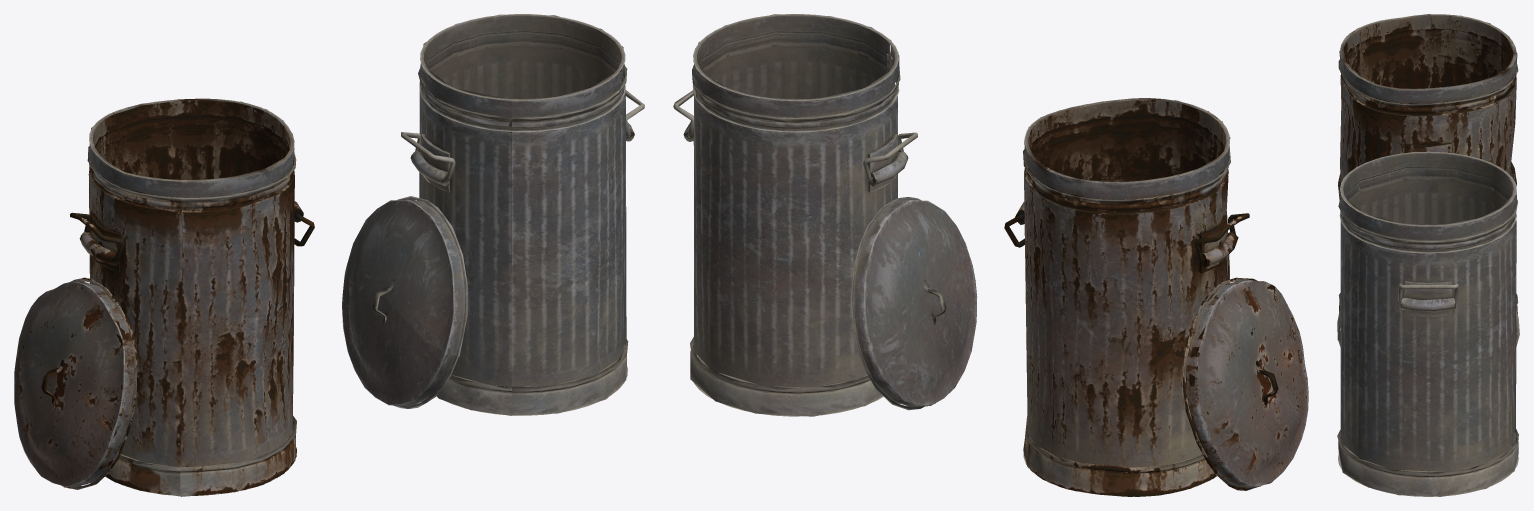
Rendered from metal_trash_can.glb.
3 views of the same model, side by side, from view 1: azimuth 30°, elevation 25°; view 2: azimuth 150°, elevation 25°; view 3: azimuth 270°, elevation 25° (orthographic). The views are drawn at different scales.
Parts seen in each view (by area): view 1: metal_trash_can, metal_trash_can_rust, metal_trash_can_lid, metal_trash_can_rust_lid; view 2: metal_trash_can, metal_trash_can_rust, metal_trash_can_lid, metal_trash_can_rust_lid; view 3: metal_trash_can, metal_trash_can_rust, metal_trash_can_handle_right, metal_trash_can_lid.
Part boxes in pixels (box(x1,y1,x2,y2)): metal_trash_can: box(410, 14, 634, 415); metal_trash_can_rust: box(79, 98, 303, 496); metal_trash_can_lid: box(342, 196, 467, 408); metal_trash_can_rust_lid: box(14, 277, 137, 489); metal_trash_can: box(683, 14, 908, 416); metal_trash_can_rust: box(1015, 98, 1238, 496); metal_trash_can_lid: box(850, 197, 977, 410); metal_trash_can_rust_lid: box(1182, 277, 1308, 490); metal_trash_can: box(1337, 151, 1518, 496); metal_trash_can_rust: box(1338, 14, 1518, 314); metal_trash_can_handle_right: box(1398, 283, 1458, 303); metal_trash_can_lid: box(1337, 310, 1519, 346).
Size of the model in its own units: 1.78 by 0.9063 by 0.5568.
Materials: 3 (3 with a texture image).
